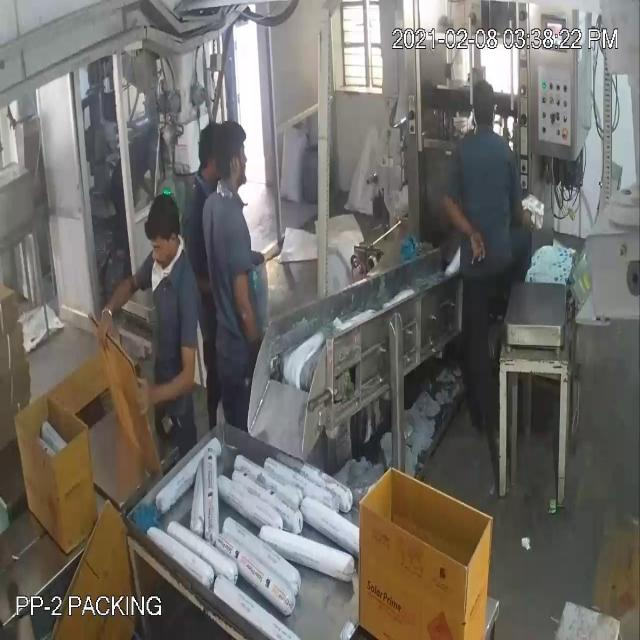No_Gloves: (50, 83, 470, 382)
